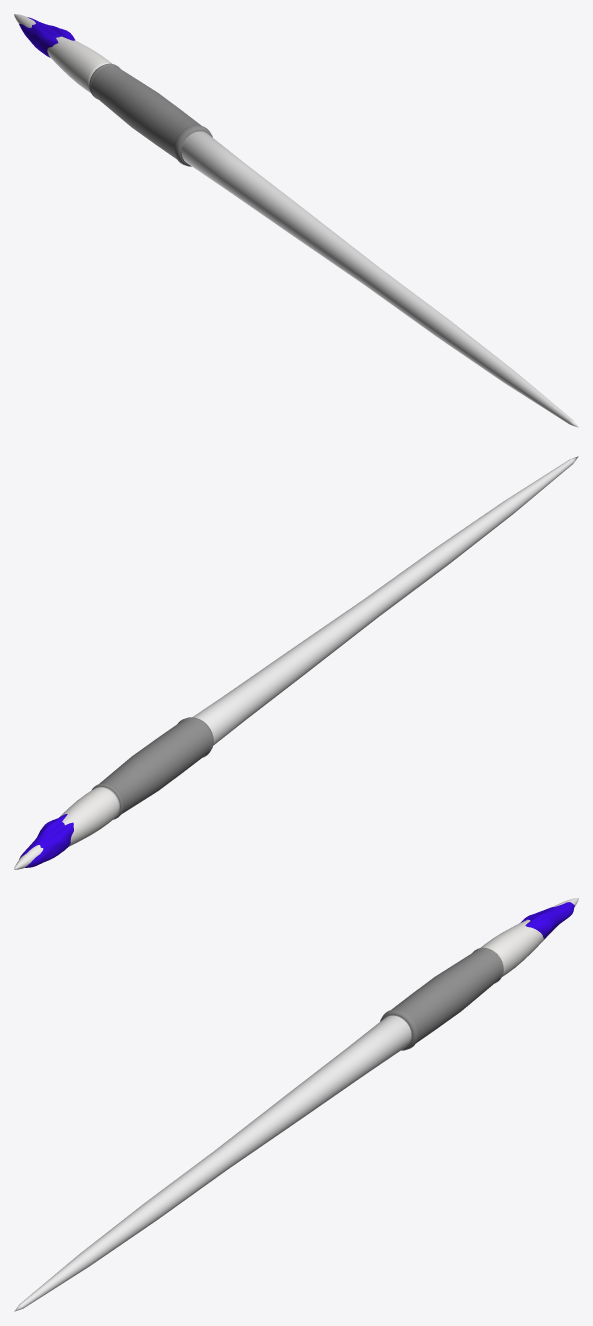
Rendered from PaintBrush_sketch.fbx.
3 views of the same model, one above another, from view 1: azimuth 30°, elevation 25°; view 2: azimuth 150°, elevation 25°; view 3: azimuth 330°, elevation 25° (orthographic).
Visible parts, largest first — view 1: Cylinder.003, Cylinder.005, Icosphere.001; view 2: Cylinder.003, Cylinder.005, Icosphere.001; view 3: Cylinder.003, Cylinder.005, Icosphere.001.
Boxes of the visible parts, x1,y1,x2,y2 form: Cylinder.003: (89,63,578,427); Cylinder.005: (14,14,112,92); Icosphere.001: (19,17,74,57); Cylinder.003: (92,456,578,819); Cylinder.005: (14,787,119,869); Icosphere.001: (19,814,73,867); Cylinder.003: (14,947,503,1311); Cylinder.005: (480,898,578,976); Icosphere.001: (520,902,574,938).
Bounding box in the file's own units: 91 × 91 × 2354.
